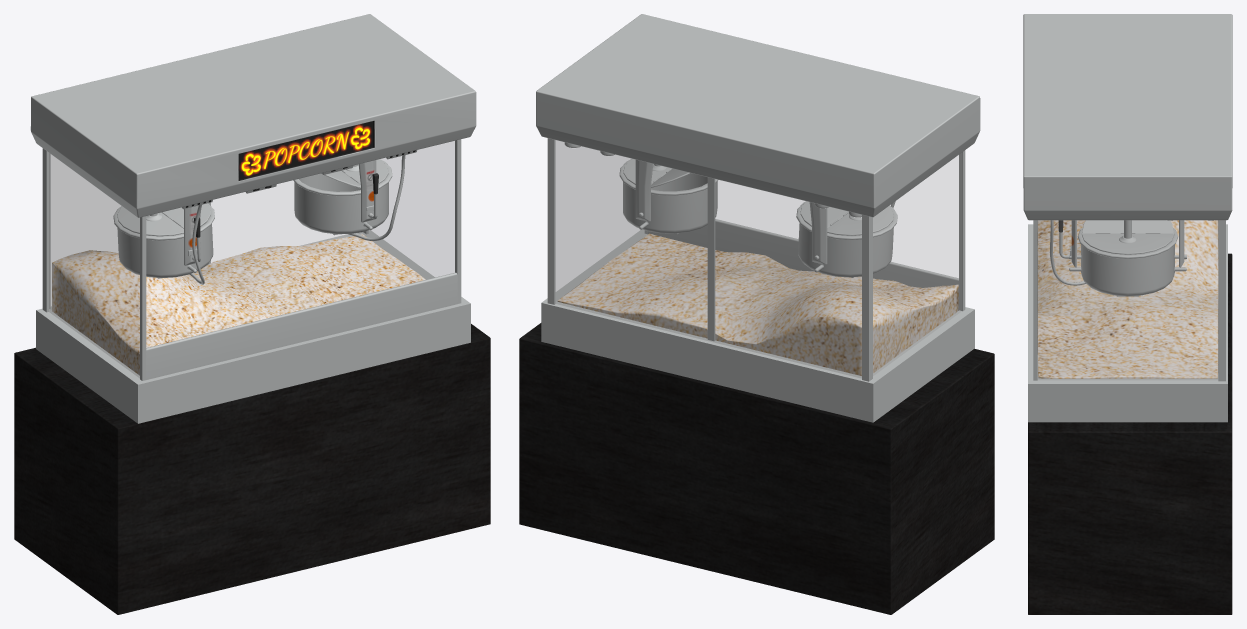
3 views of the same model, side by side, from view 1: azimuth 30°, elevation 25°; view 2: azimuth 150°, elevation 25°; view 3: azimuth 270°, elevation 25° (orthographic).
Visible parts, largest first — view 1: PopcornMachine1; view 2: PopcornMachine1; view 3: PopcornMachine1.
Part boxes in pixels (<box>): PopcornMachine1: <box>14,14,490,614</box>; PopcornMachine1: <box>519,14,994,614</box>; PopcornMachine1: <box>1023,14,1232,614</box>.
Bounding box in the file's own units: 1.8 × 2.02 × 0.8867.
3 materials, 2 textured.
